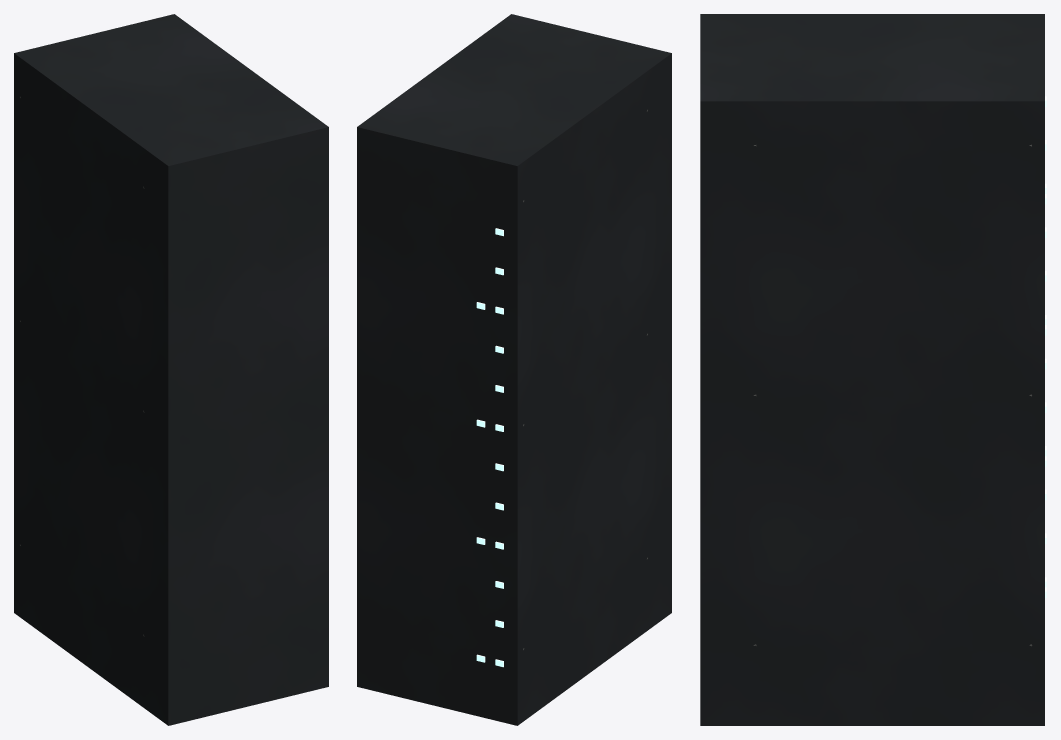
The model's file is server_rack.glb.
3 renders of one model, left to right at view 1: azimuth 30°, elevation 25°; view 2: azimuth 150°, elevation 25°; view 3: azimuth 270°, elevation 25°, orthographic. The views are drawn at different scales.
Parts seen in each view (by area): view 1: server_rack; view 2: server_rack; view 3: server_rack.
Boxes of the visible parts, x1,y1,x2,y2 form: server_rack: (14,14,328,725); server_rack: (357,14,671,725); server_rack: (700,14,1046,725).
Bounding box in the file's own units: 0.6 × 2 × 1.
2 materials, 1 textured.
